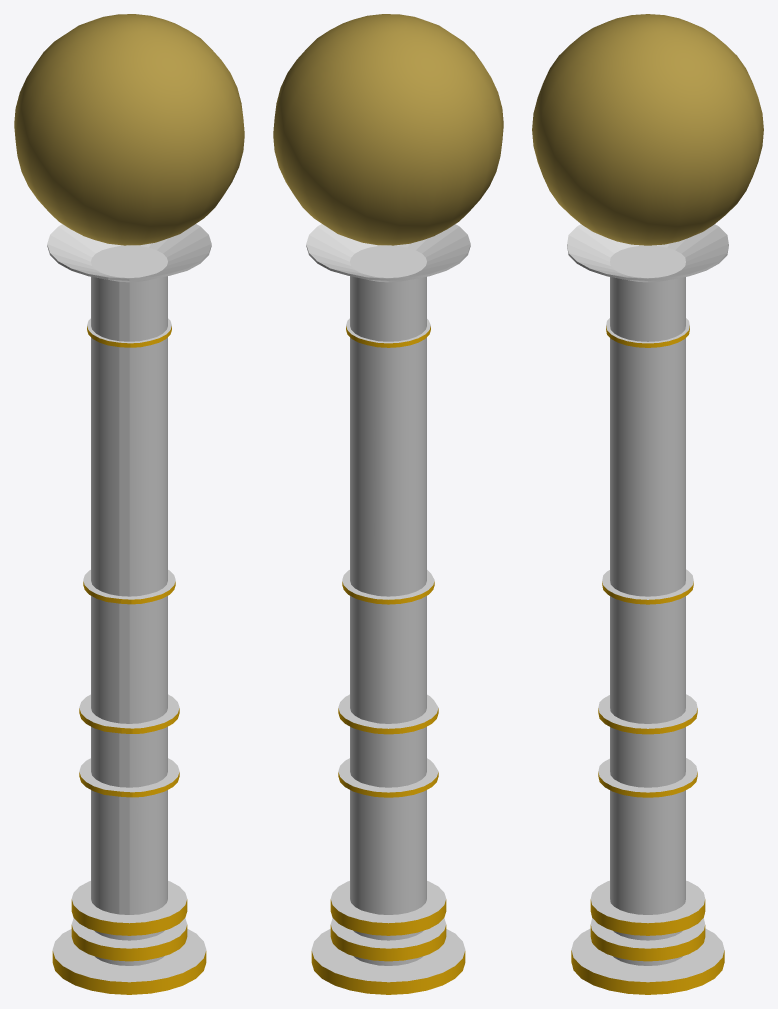
The model's file is Lamp1.fbx.
3 views of the same model, side by side, from view 1: azimuth 30°, elevation 25°; view 2: azimuth 150°, elevation 25°; view 3: azimuth 270°, elevation 25° (orthographic).
Visible parts, largest first — view 1: polySurface14, polySurface15; view 2: polySurface14, polySurface15; view 3: polySurface14, polySurface15.
Boxes of the visible parts, x1=… form: polySurface14: x1=47, y1=224, x2=211, y2=994; polySurface15: x1=14, y1=14, x2=244, y2=245; polySurface14: x1=306, y1=224, x2=470, y2=994; polySurface15: x1=273, y1=14, x2=503, y2=245; polySurface14: x1=567, y1=224, x2=728, y2=994; polySurface15: x1=532, y1=14, x2=763, y2=245.
Size of the model in its own units: 18 by 80.3 by 18.
Materials: 3 (1 with a texture image).
